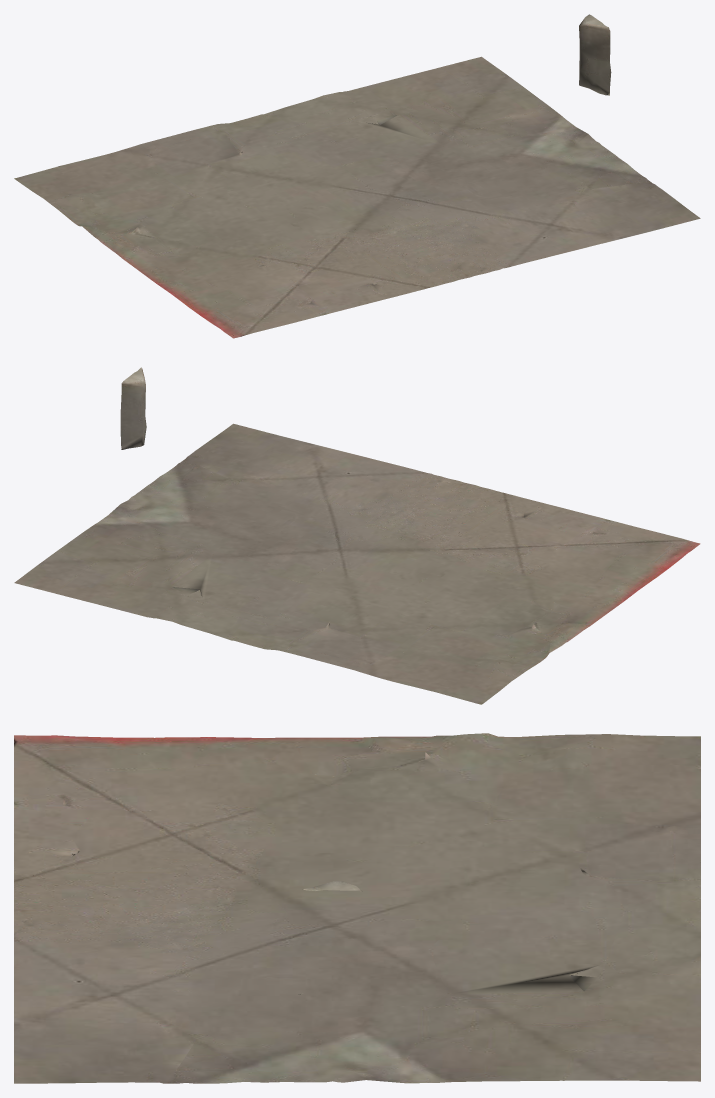
The picture shows the model from 3 angles, top to bottom: view 1: azimuth 30°, elevation 25°; view 2: azimuth 150°, elevation 25°; view 3: azimuth 270°, elevation 25°; orthographic projection. The views are drawn at different scales.
Size of the model in its own units: 4.59 by 1.25 by 3.73.
Materials: 1 (1 with a texture image).
